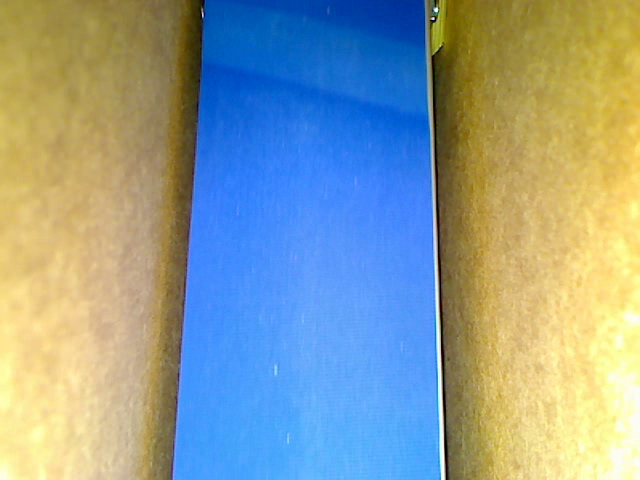penne: (431, 1, 450, 57)
